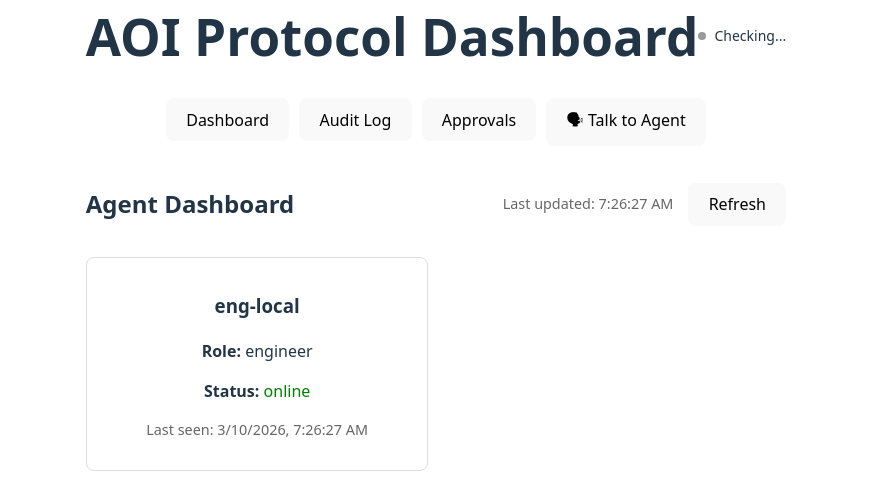
Test: App Component › Mock Data › has mock audit entry from pm-tanaka
The width and height of the screenshot is (872, 488).
Click the button "Audit Log": click(355, 120) top-left (299, 98), bottom-right (412, 141)
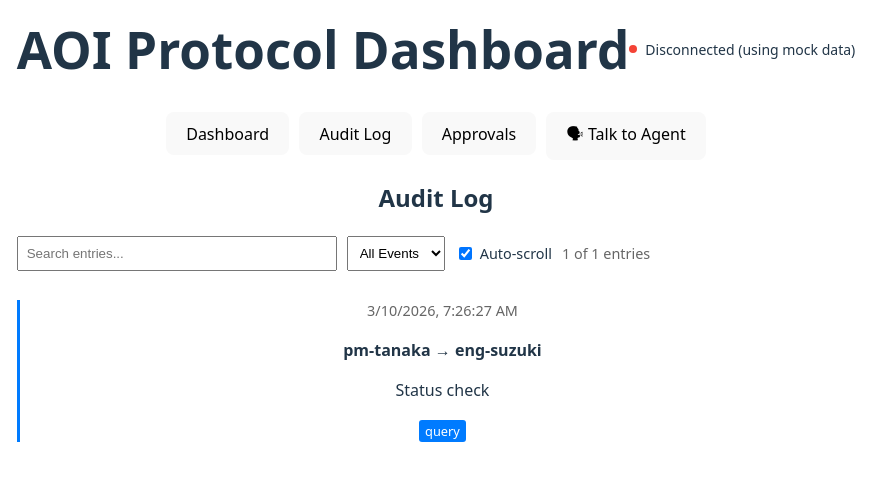
Expected: the text "pm-tanaka" is shown, top-left (343, 339), bottom-right (431, 361)
